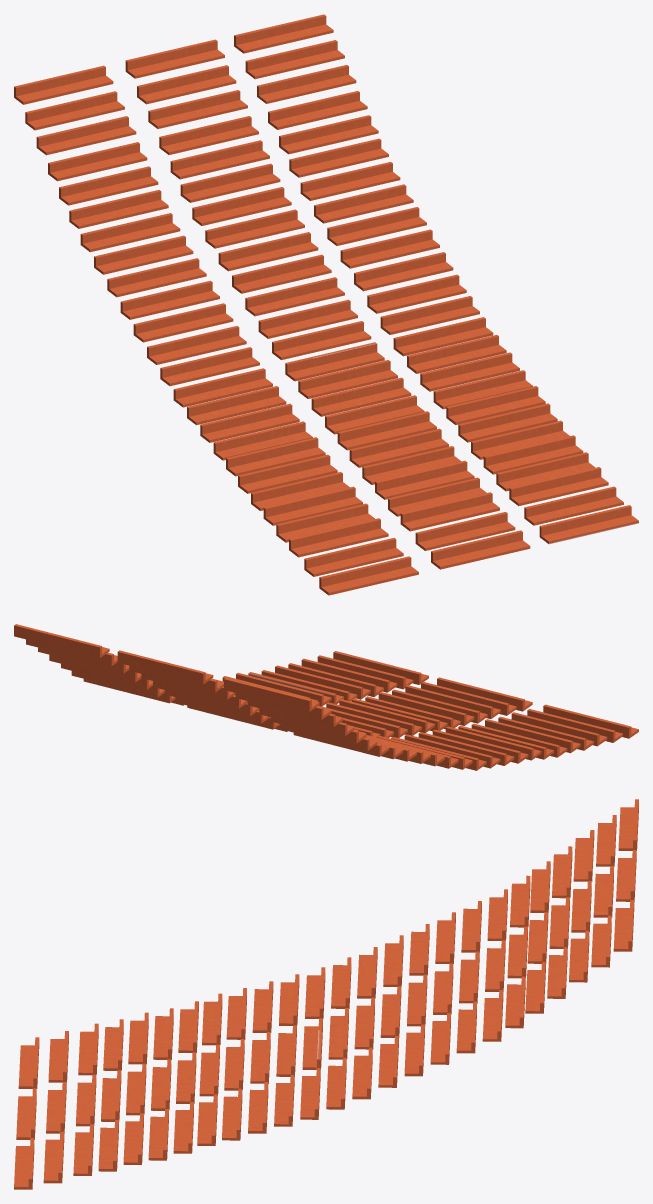
Rendered from seats.fbx.
The picture shows the model from 3 angles, top to bottom: view 1: azimuth 30°, elevation 25°; view 2: azimuth 150°, elevation 25°; view 3: azimuth 270°, elevation 25°; orthographic projection. The views are drawn at different scales.
Parts seen in each view (by area): view 1: pCube569; view 2: pCube569; view 3: pCube569.
Part boxes in pixels (x1,y1,x2,y2): pCube569: (14,14,638,595); pCube569: (14,624,638,770); pCube569: (14,799,638,1189).
Size of the model in its own units: 23.87 by 19.2 by 42.86.
